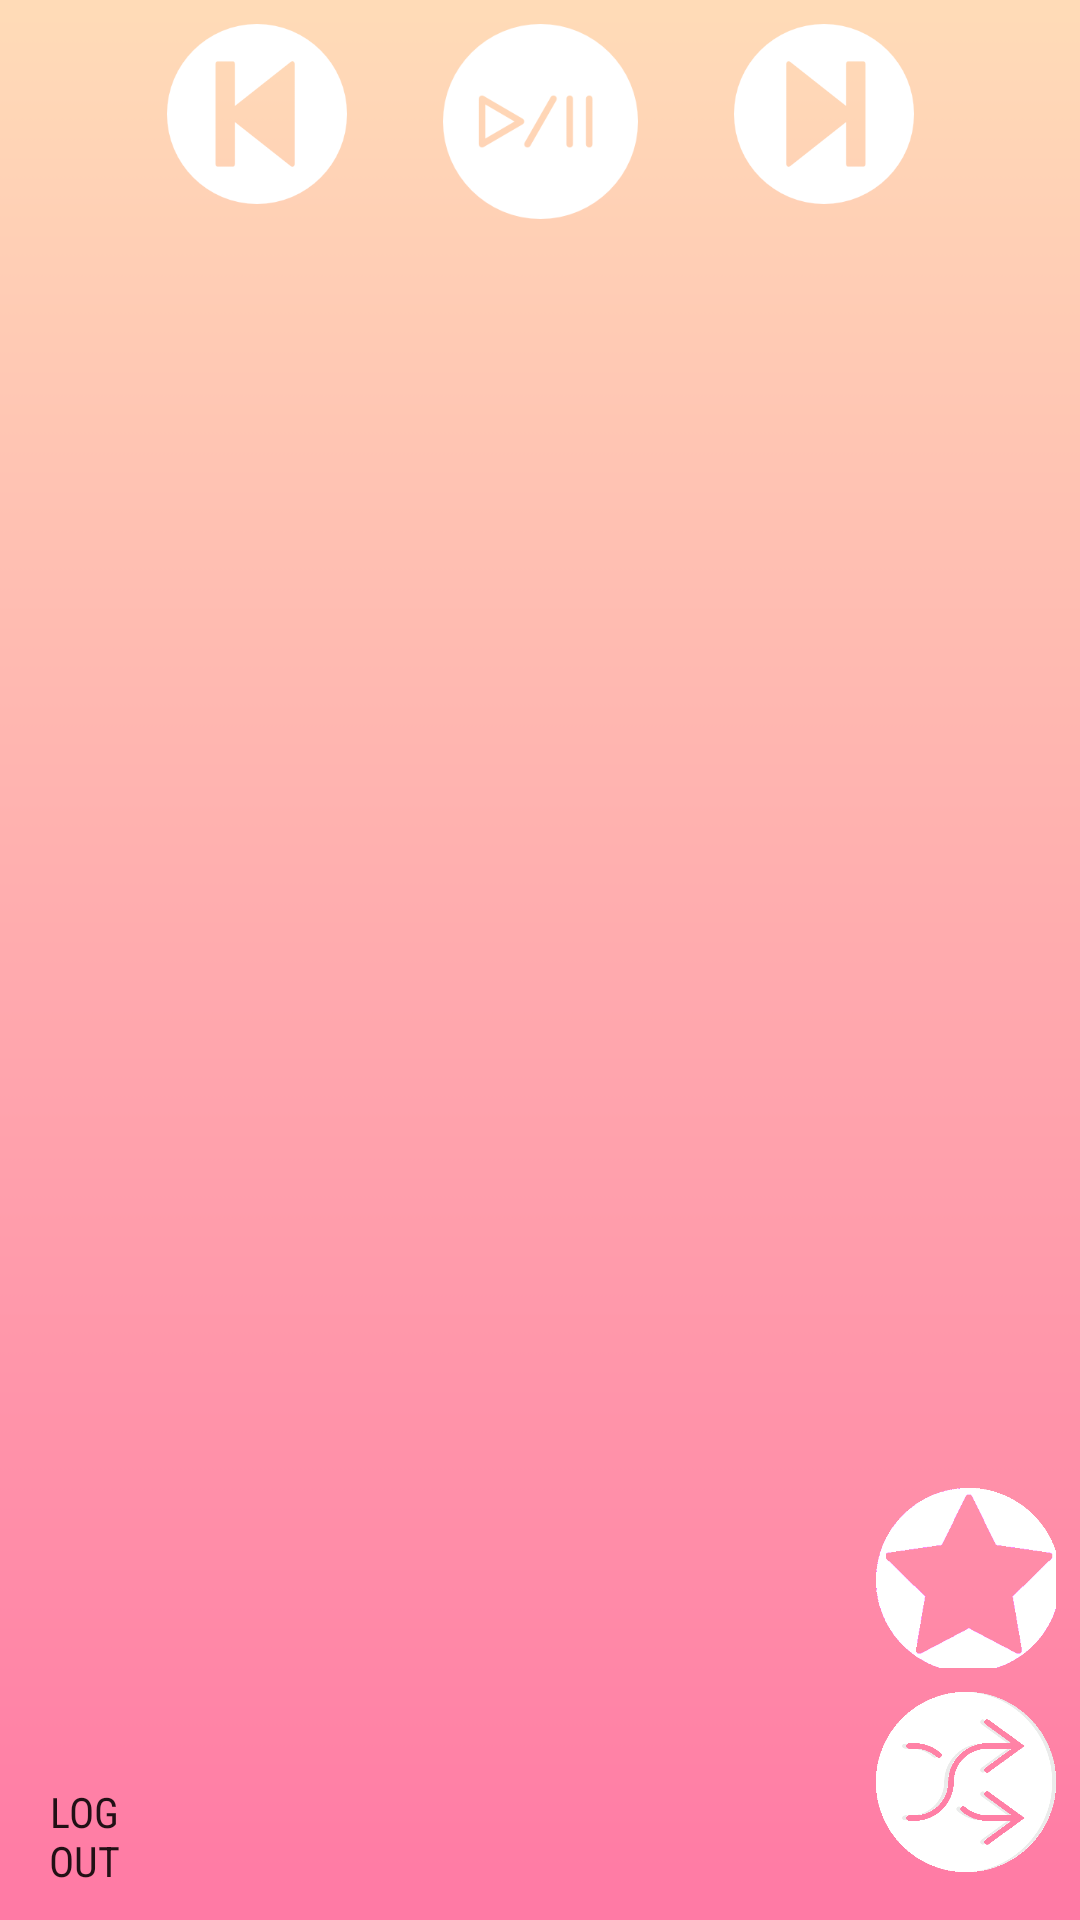

Icon bounding boxes for this 1080×1920 phone screenshot, format [x1=x1, y1=y1, x2=x2, y2=y2]:
favs: [x1=876, y1=1488, x2=1056, y2=1668]
next: [x1=734, y1=24, x2=914, y2=204]
play: [x1=443, y1=24, x2=638, y2=219]
previous: [x1=167, y1=24, x2=347, y2=204]
shuffle: [x1=876, y1=1692, x2=1056, y2=1872]
